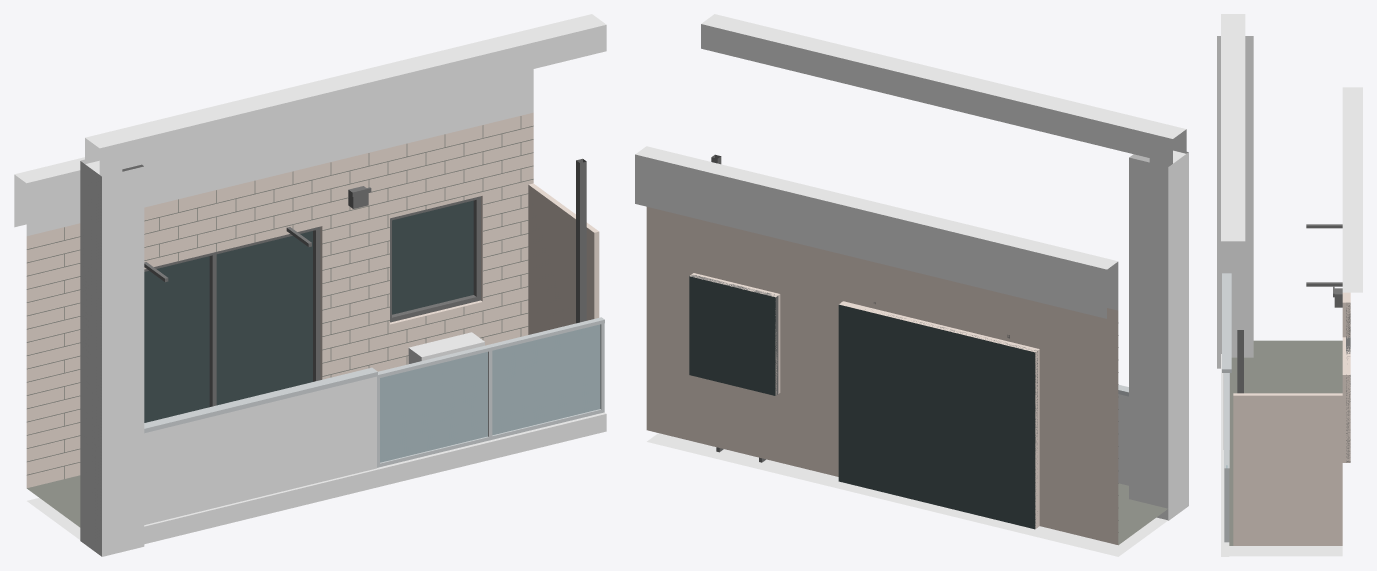
File: top-w1_close.fbx
3 views of the same model, side by side, from view 1: azimuth 30°, elevation 25°; view 2: azimuth 150°, elevation 25°; view 3: azimuth 270°, elevation 25° (orthographic). The views are drawn at different scales.
Visible parts, largest first — view 1: a2007/250/top-w1_close; view 2: a2007/250/top-w1_close; view 3: a2007/250/top-w1_close.
Boxes of the visible parts, x1,y1,x2,y2 form: a2007/250/top-w1_close: (14, 14, 606, 556); a2007/250/top-w1_close: (635, 14, 1188, 556); a2007/250/top-w1_close: (1217, 14, 1362, 556).
Size of the model in its own units: 6 by 4.6 by 1.8.
